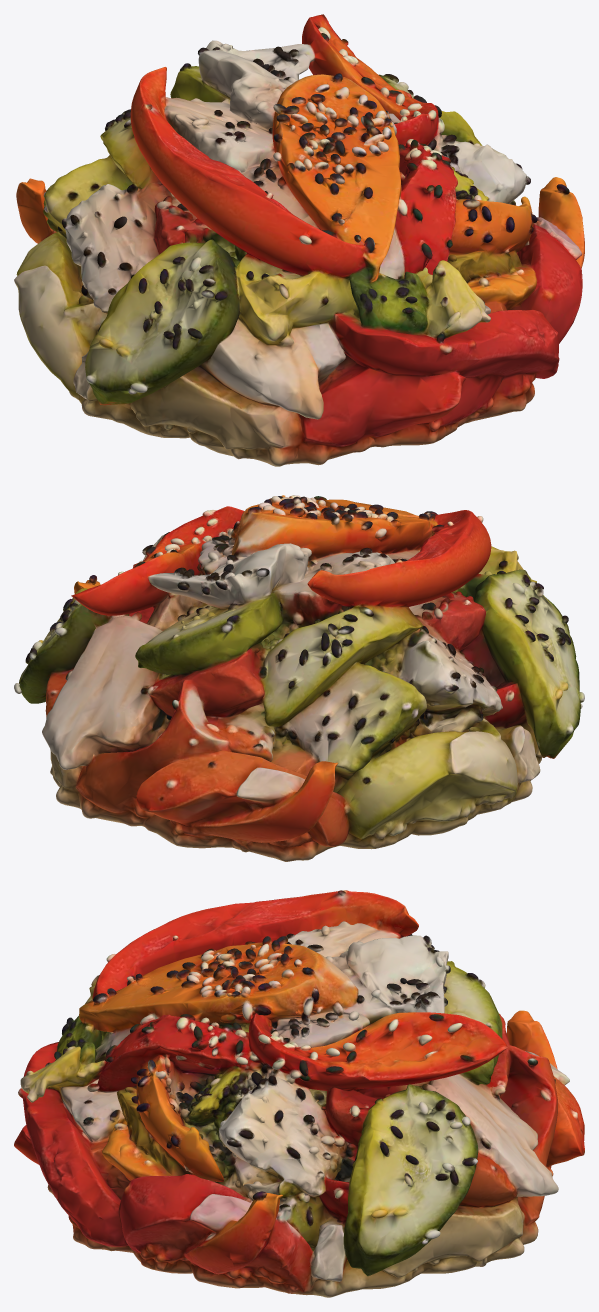
File: g-kimchi.glb
3 views of the same model, one above another, from view 1: azimuth 30°, elevation 25°; view 2: azimuth 150°, elevation 25°; view 3: azimuth 270°, elevation 25° (orthographic). The views are drawn at different scales.
Visible parts, largest first — view 1: tripo_node_c64db273-dd38-4bb7-9bed-ae765440da99; view 2: tripo_node_c64db273-dd38-4bb7-9bed-ae765440da99; view 3: tripo_node_c64db273-dd38-4bb7-9bed-ae765440da99.
Boxes of the visible parts, <box> form: tripo_node_c64db273-dd38-4bb7-9bed-ae765440da99: <box>14,14,584,466</box>; tripo_node_c64db273-dd38-4bb7-9bed-ae765440da99: <box>14,495,584,861</box>; tripo_node_c64db273-dd38-4bb7-9bed-ae765440da99: <box>14,890,584,1297</box>.
Size of the model in its own units: 0.9473 by 0.4773 by 0.9804.
1 material, 1 textured.
